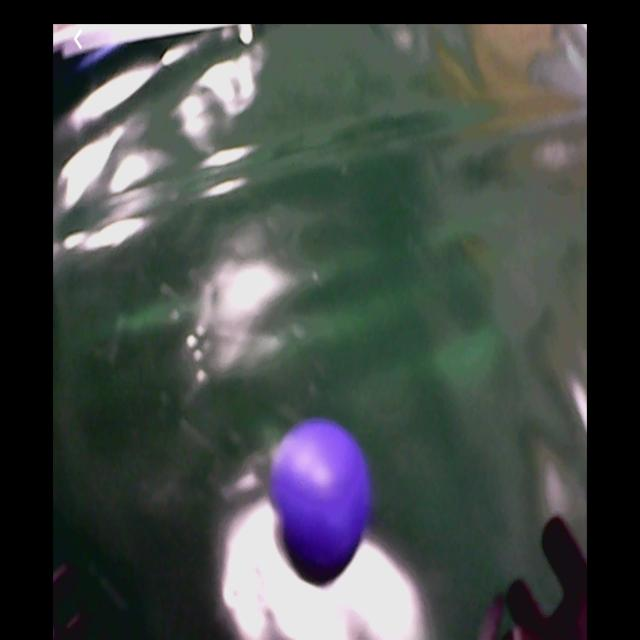ball: (273, 423, 369, 572)
